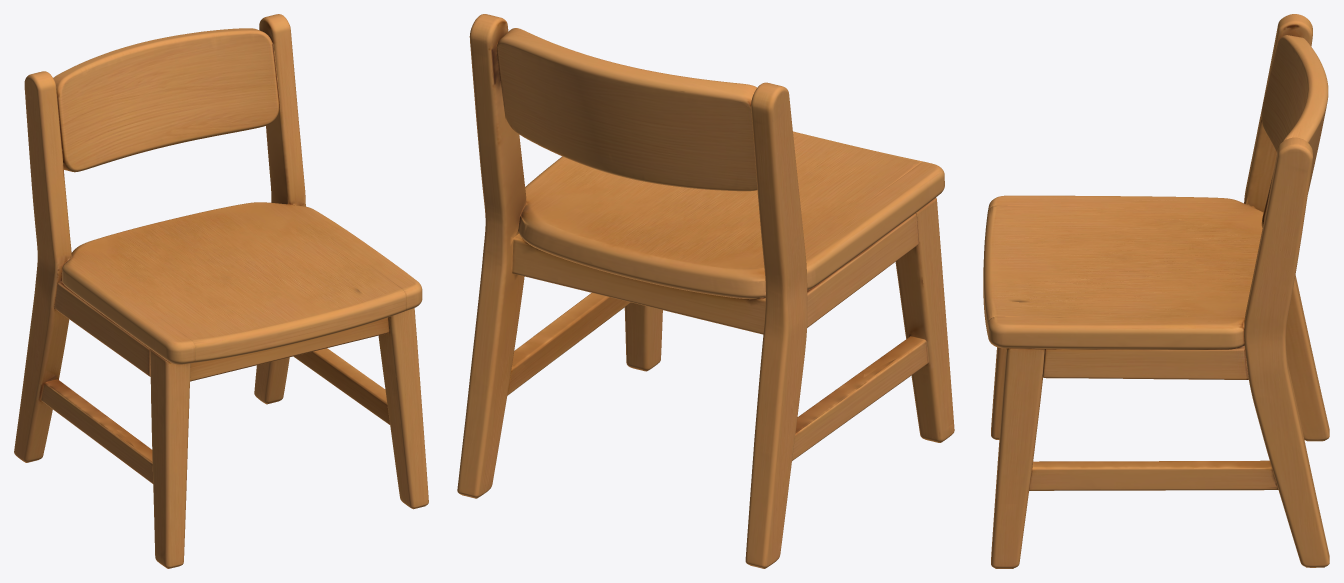
Rendered from chair.glb.
3 views of the same model, side by side, from view 1: azimuth 30°, elevation 25°; view 2: azimuth 150°, elevation 25°; view 3: azimuth 270°, elevation 25° (orthographic). The views are drawn at different scales.
Parts seen in each view (by area): view 1: node_0; view 2: node_0; view 3: node_0.
Boxes of the visible parts, box(x1,y1,x2,y2) form: node_0: box(14, 14, 428, 568); node_0: box(457, 14, 954, 568); node_0: box(983, 14, 1329, 568).
Bounding box in the file's own units: 0.6013 × 0.8524 × 0.6344.
1 material, 1 textured.
